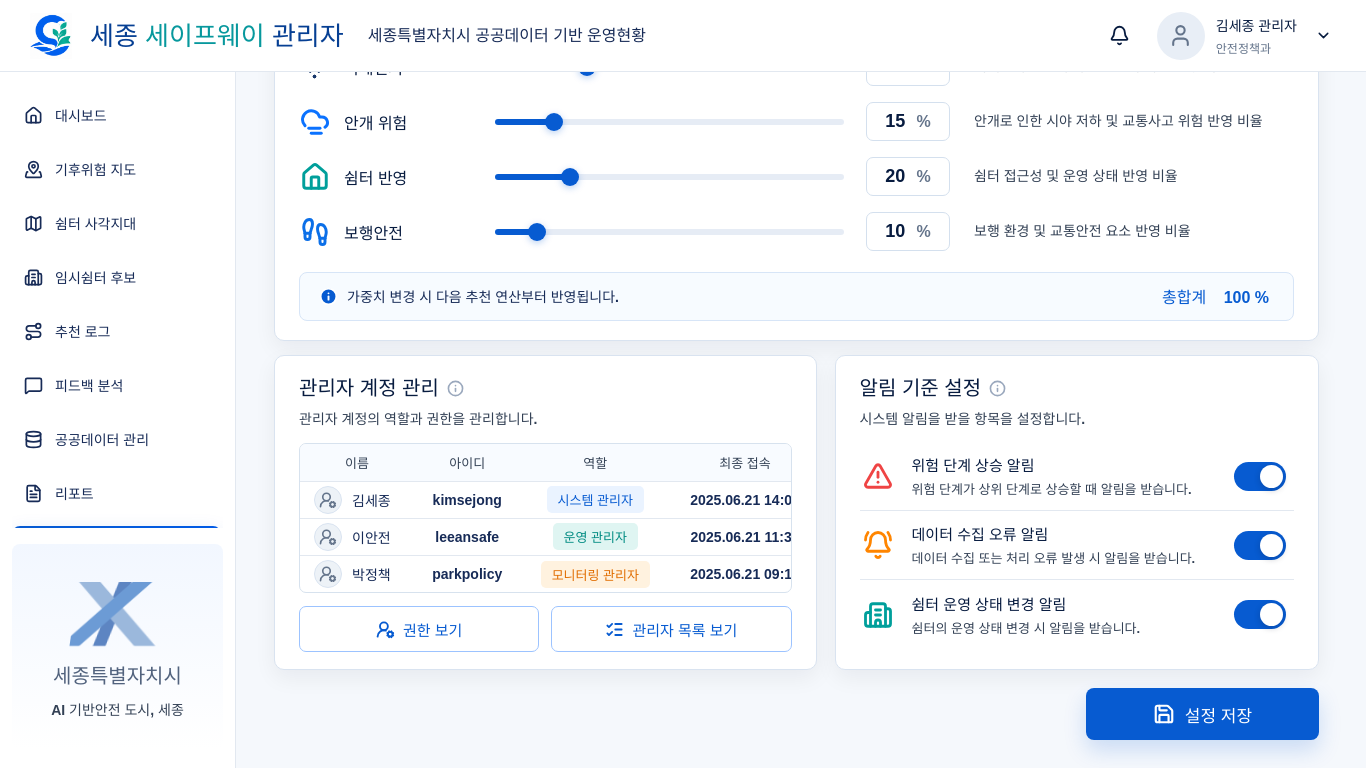
Test: AdminSettingsPage › saves settings with fixture fallback when the backend is unavailable
(page scrolled)
Click the button "설정 저장" at (1202, 714), box left=1086, top=688, right=1319, bottom=740
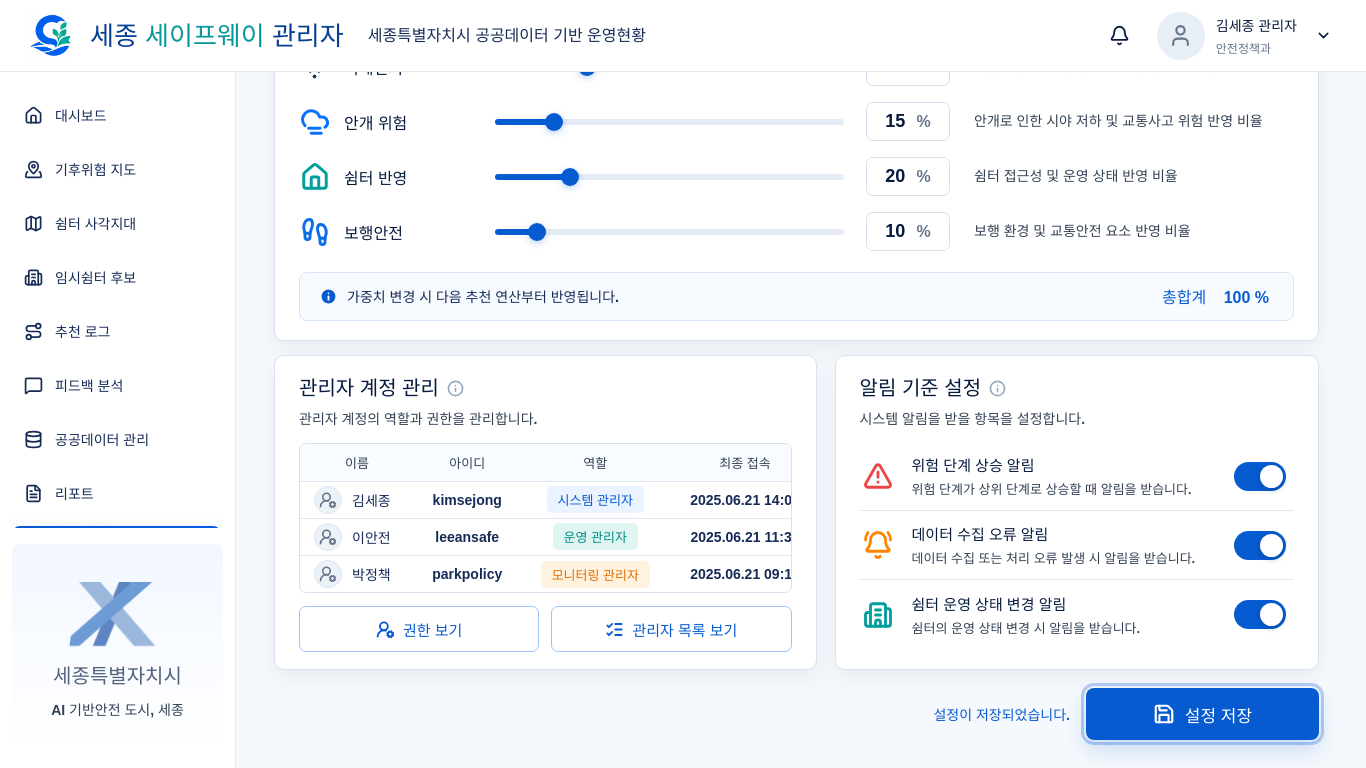
Expected: the message reads "설정이 저장되었습니다.", left=933, top=707, right=1070, bottom=723
